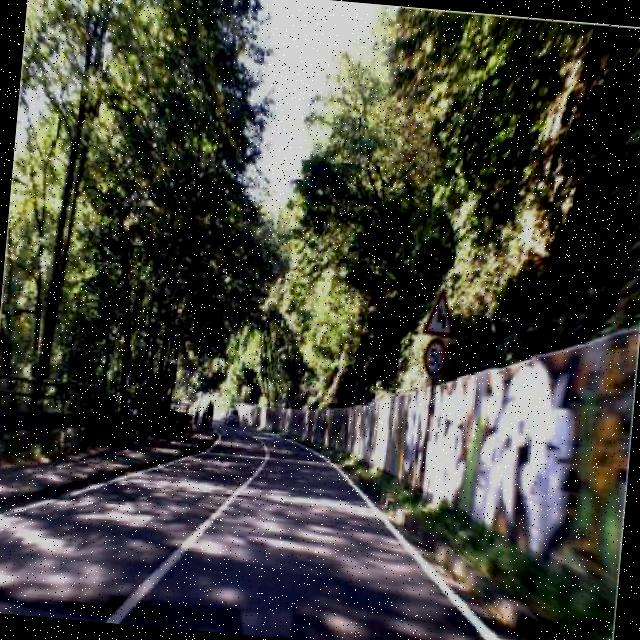Ograniczenie predkosci do 50: (422, 338, 449, 380)
